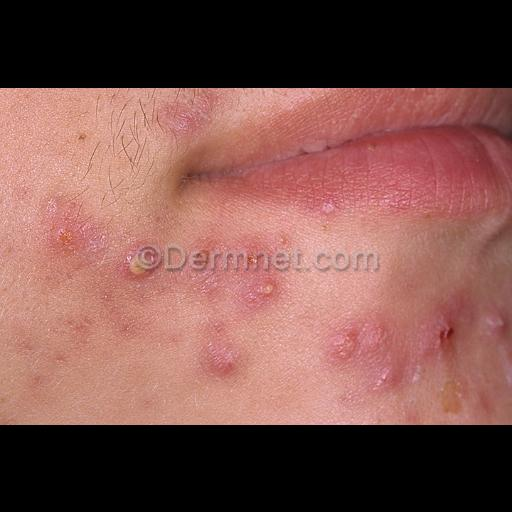Skin_Lesion: (421, 308, 461, 360), (184, 238, 220, 290), (205, 340, 237, 384), (48, 224, 80, 260), (440, 376, 468, 414), (328, 326, 354, 366), (360, 324, 390, 356), (34, 198, 84, 216), (172, 102, 200, 134), (124, 248, 150, 282), (65, 312, 91, 340), (474, 392, 496, 424), (376, 368, 398, 398), (487, 311, 512, 335), (239, 250, 263, 272), (44, 350, 70, 366), (254, 278, 272, 298), (73, 128, 91, 146), (30, 372, 48, 390), (320, 202, 336, 216), (367, 141, 381, 157), (275, 235, 289, 245), (102, 291, 110, 303)
